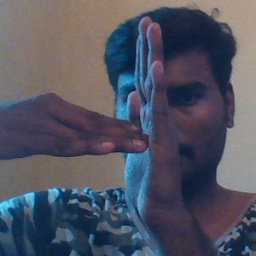Z: (48, 15, 186, 224)
